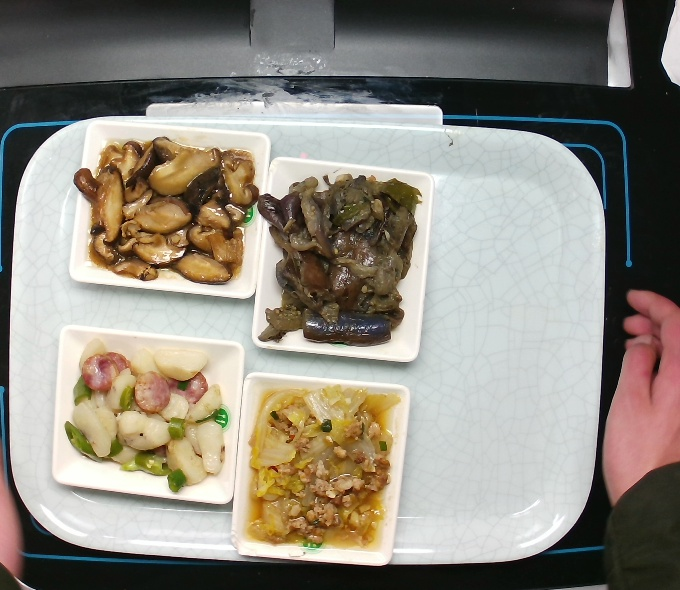wcq-MaTiGuo: (64, 338, 234, 494)
wcq-MoGu: (78, 132, 255, 288)
wcq-QieZi: (256, 167, 414, 346)
wcq-RouMoBaiCai: (247, 388, 391, 544)
